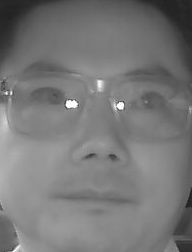eye: (29, 83, 64, 107), (131, 89, 169, 111)
glass: (6, 70, 92, 137), (110, 73, 188, 138)
mouth: (56, 180, 136, 220)
